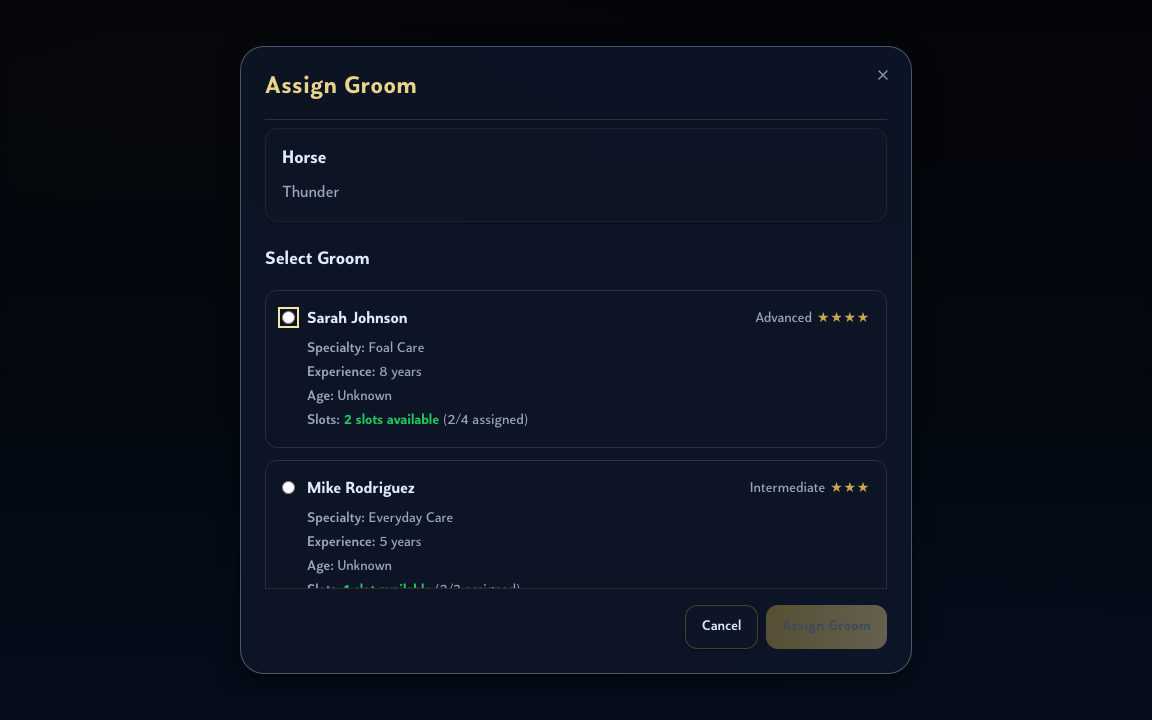
Test: AssignGroomModal Component › Assignment Options › has no priority level and no notes, and keeps Replace existing assignment
Click the radio button labelled "Sarah Johnson": {"x": 288, "y": 318} [282, 311, 295, 324]
(page scrolled)
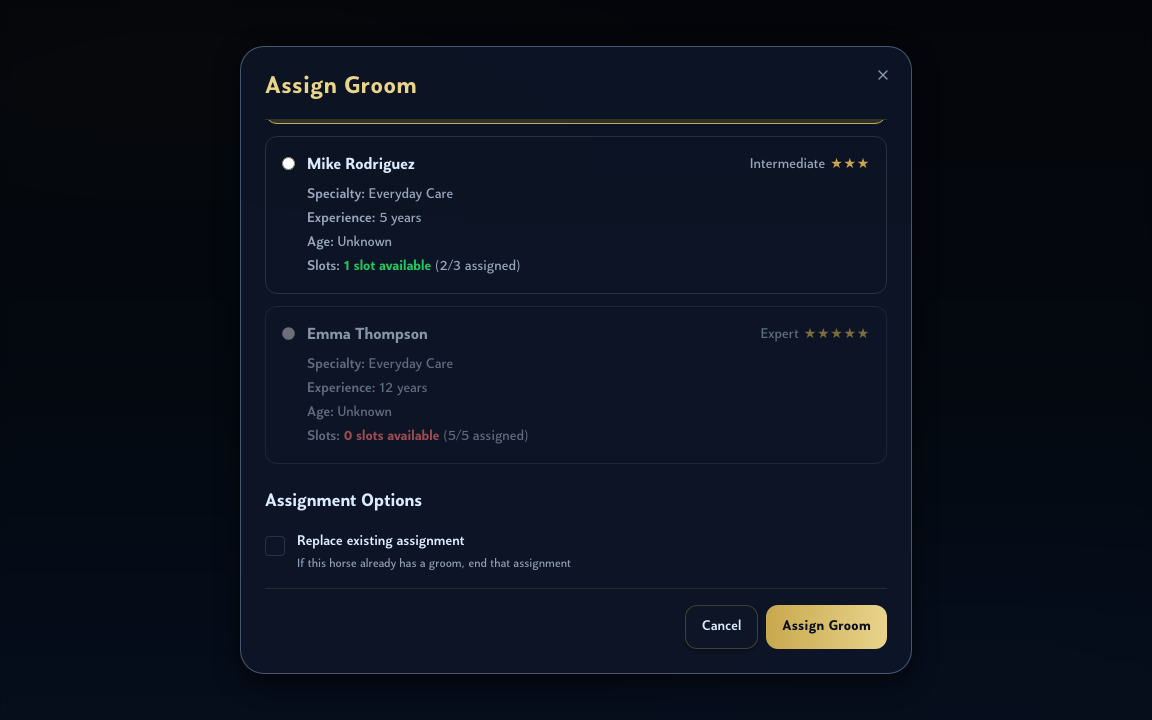
Check: the checkbox named "replace existing assignment" is shown, box [265, 536, 285, 556]
